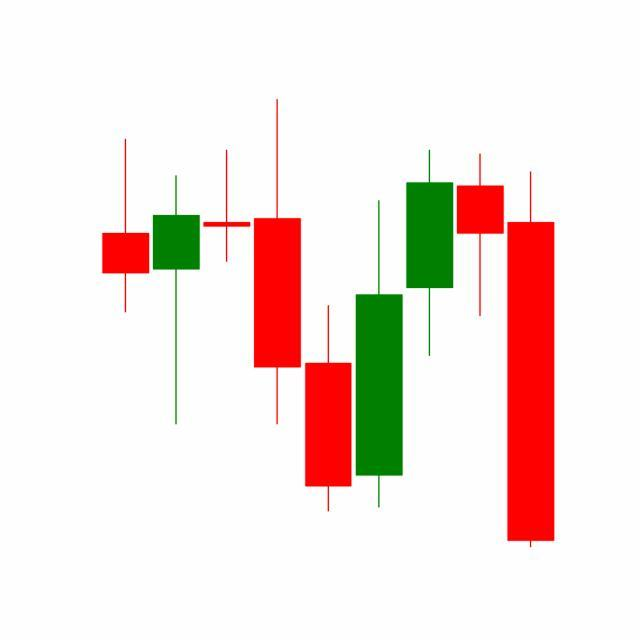Hikkake Pattern: (302, 146, 555, 549)
